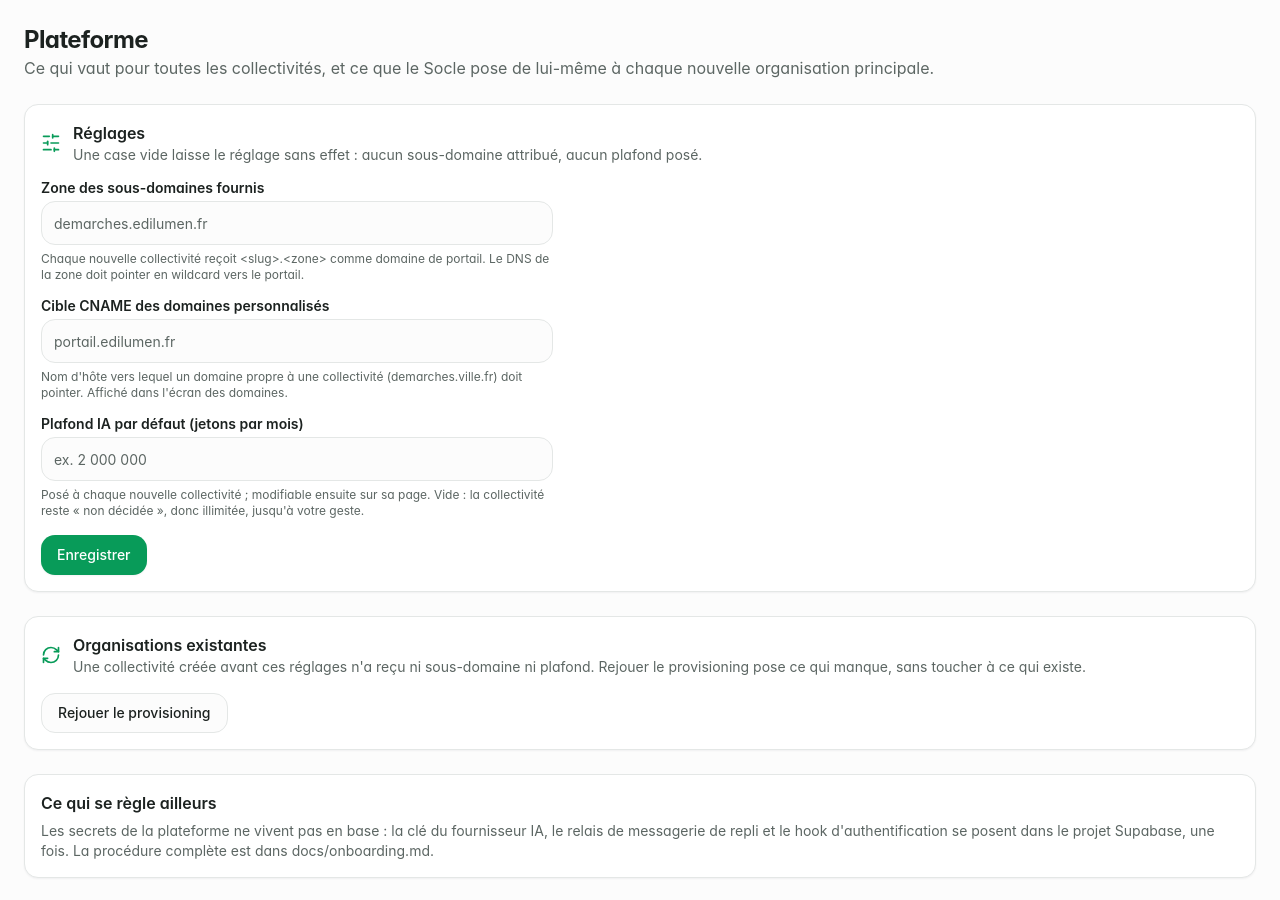
PlatformSettingsPage › raconte ce que le provisioning a ajouté
Click the button "Rejouer le provisioning": x=134, y=713 [41,693,228,733]
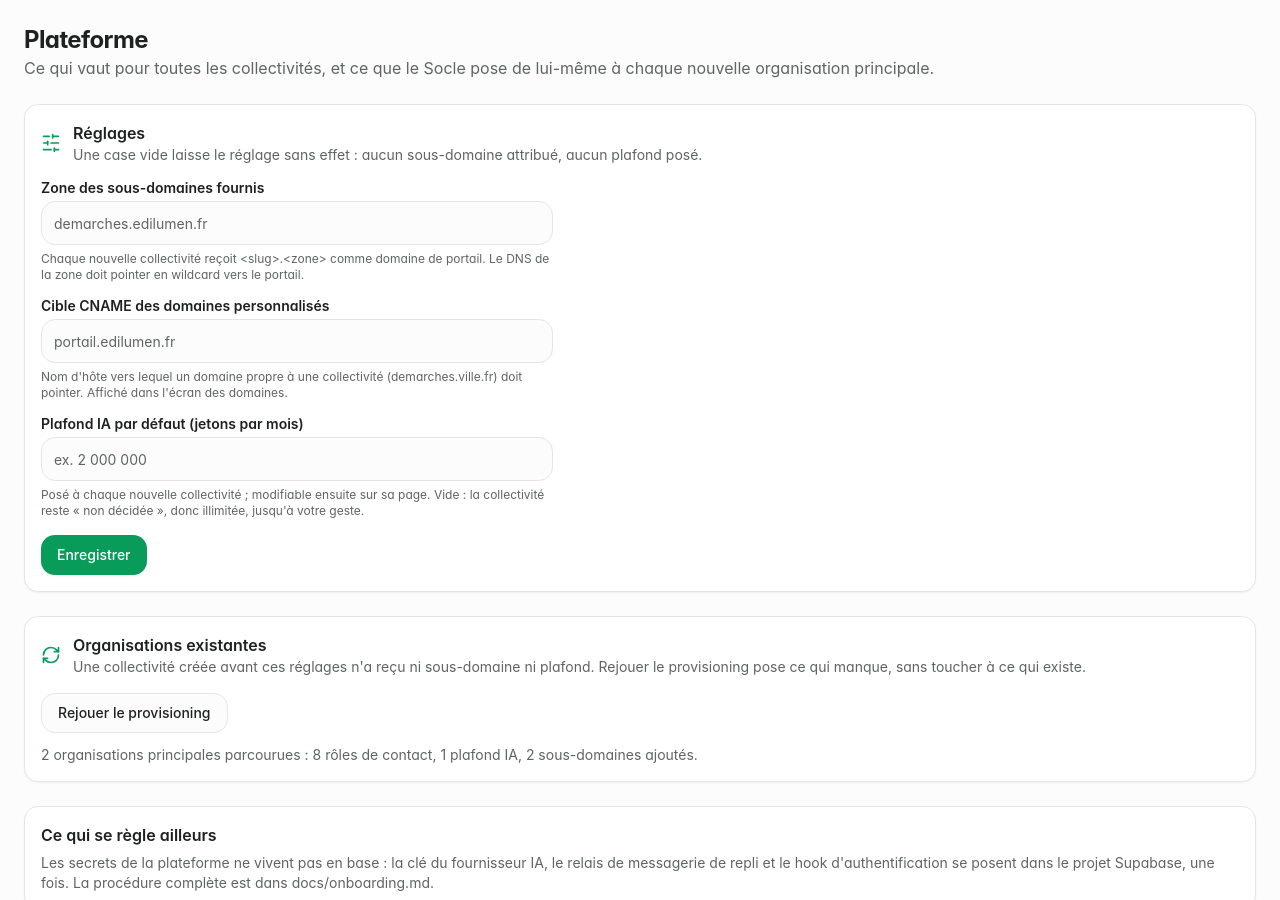
Expected: the text "8 rôles de contact, 1 plafond IA, 2 sous-domaines ajoutés" is shown, [41,746,698,763]
